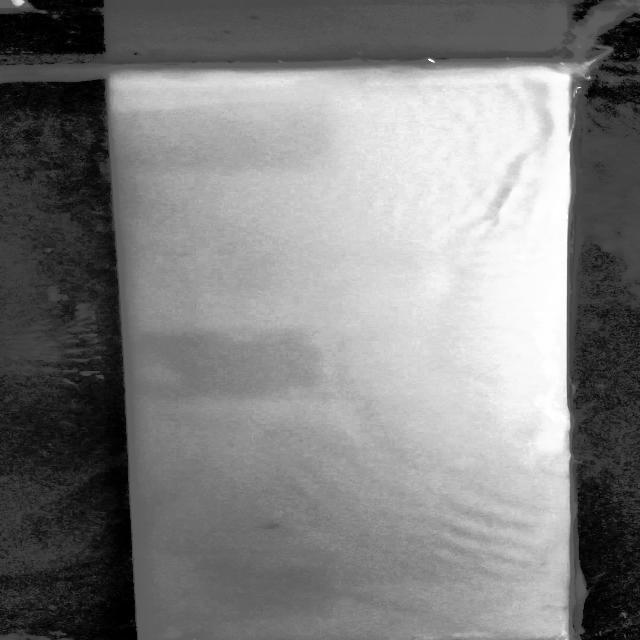shrimp: (259, 519, 293, 533), (130, 554, 154, 564)
